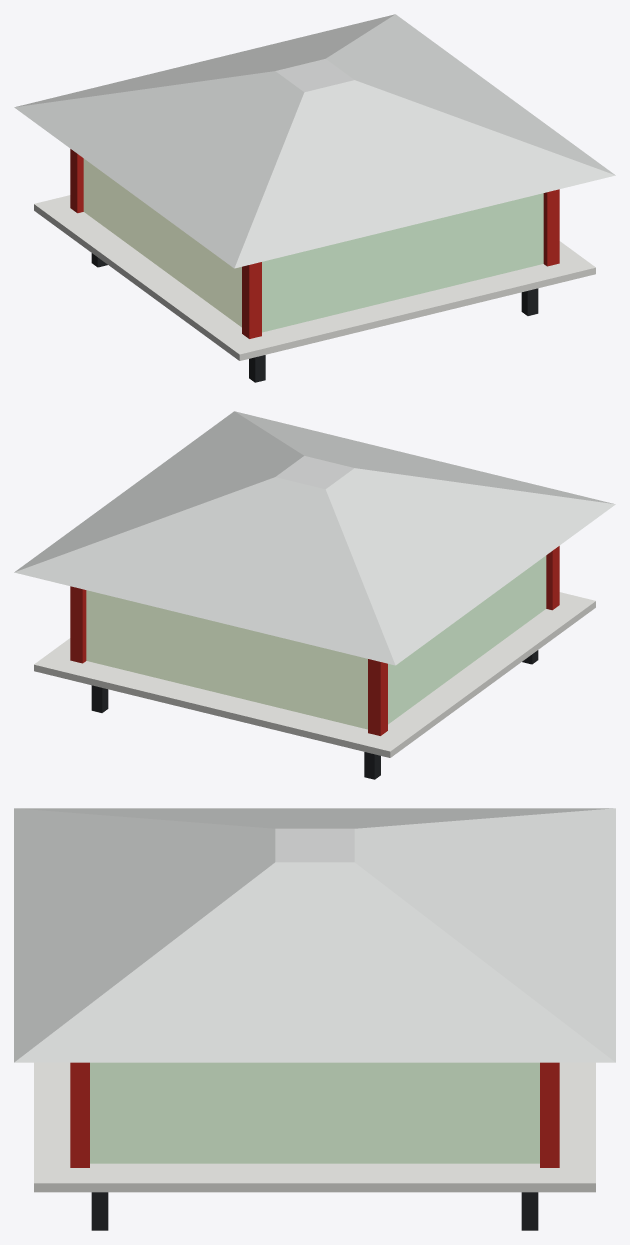
Rendered from sha_pavilion.glb.
3 views of the same model, one above another, from view 1: azimuth 30°, elevation 25°; view 2: azimuth 150°, elevation 25°; view 3: azimuth 270°, elevation 25° (orthographic). The views are drawn at different scales.
Parts seen in each view (by area): view 1: shanghai-team-pavilion; view 2: shanghai-team-pavilion; view 3: shanghai-team-pavilion.
Part boxes in pixels (left/top/right/bottom): shanghai-team-pavilion: left=14, top=14, right=615, bottom=382; shanghai-team-pavilion: left=14, top=411, right=615, bottom=779; shanghai-team-pavilion: left=14, top=808, right=615, bottom=1230.
Bounding box in the file's own units: 18.2 × 9.7 × 18.2.
